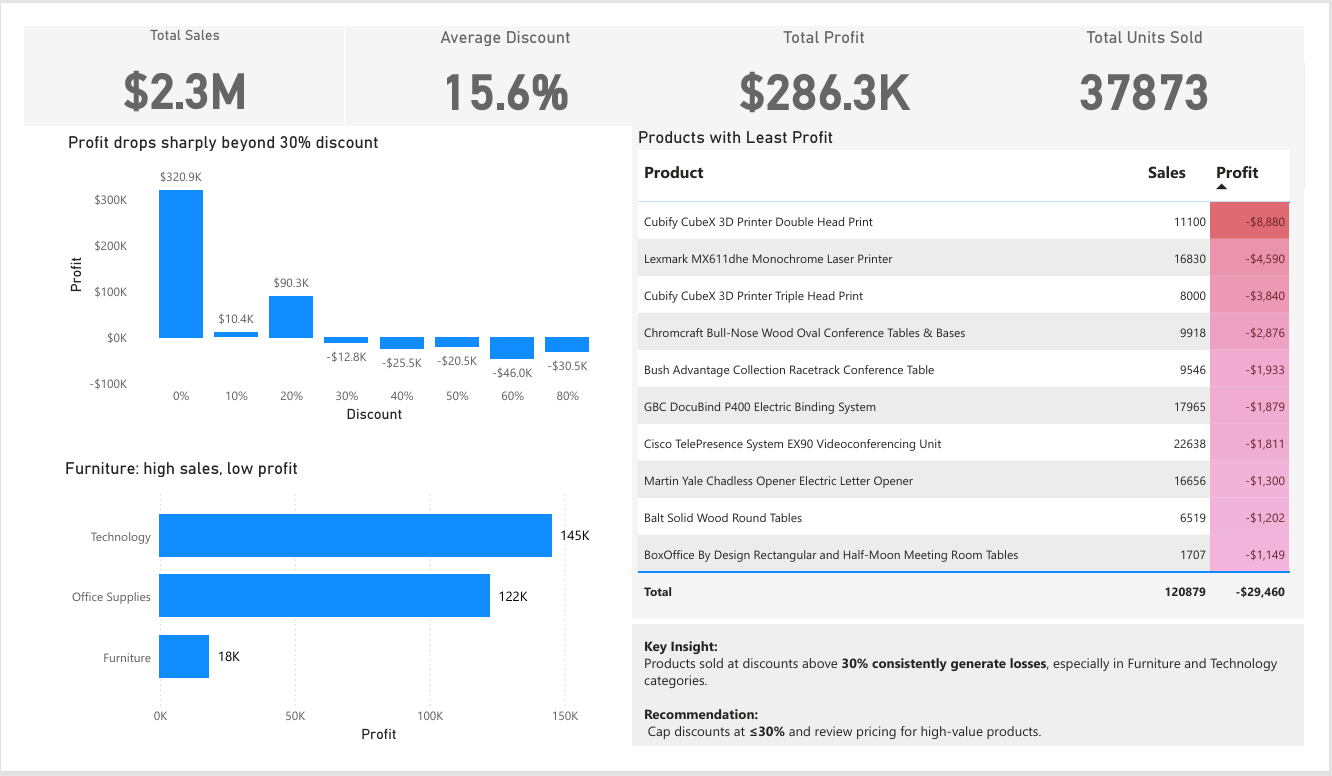

The dashboard page shown, as its layout file describes it:
{"tool":"powerbi","page":{"name":"Profit & Discount Analysis","canvas":[1280,720],"ordinal":0},"visuals":[{"type":"card","title":"Total Sales","fields":{"Values":["Sum(record_analysis records.sales)"]},"box":[0,0,320,100],"z":0,"group":"g1"},{"type":"clusteredColumnChart","title":"Profit drops sharply beyond 30% discount","fields":{"Category":["record_analysis records.discount (bins) 2"],"Y":["Sum(record_analysis records.profit)"]},"box":[37.6,104.8,554.3,295.5],"z":0},{"type":"card","title":"Total Profit","fields":{"Values":["Sum(record_analysis records.profit)"]},"box":[638.8,0,320.4,100],"z":1000,"group":"g1"},{"type":"barChart","title":"Furniture: high sales, low profit","fields":{"Category":["record_analysis records.category"],"Y":["Sum(record_analysis records.profit)"]},"box":[34.9,430.7,557,289.3],"z":1000},{"type":"card","title":"Total Units Sold","fields":{"Values":["Sum(record_analysis records.quantity)"]},"box":[959.2,0,320.4,100],"z":2000,"group":"g1"},{"type":"tableEx","title":"Products with Least Profit","fields":{"Values":["record_analysis records.product_name","Sum(record_analysis records.sales)","Sum(record_analysis records.profit)"]},"box":[607.9,100.2,672.1,493.1],"z":2000},{"type":"card","title":"Average Discount","fields":{"Values":["Avg(record_analysis records.discount)"]},"box":[320.9,0,319.2,100],"z":3000,"group":"g1"},{"type":"textbox","box":[607.9,598.2,672.1,121.6],"z":3000},{"type":"group","id":"g1","title":"Group 1","box":[0,0,1279.7,100.3],"z":4000}]}

Visuals, with their boxes on the page's 1280x720 design canvas (x1, y1, x2, y2). These are canvas units, not pixel positions in the 1332x776 screenshot, which may show the page scaled, cropped or inside an application window:
"Total Sales" card: (x1=0, y1=0, x2=320, y2=100)
"Profit drops sharply beyond 30% discount" clusteredColumnChart: (x1=38, y1=105, x2=592, y2=400)
"Total Profit" card: (x1=639, y1=0, x2=959, y2=100)
"Furniture: high sales, low profit" barChart: (x1=35, y1=431, x2=592, y2=720)
"Total Units Sold" card: (x1=959, y1=0, x2=1280, y2=100)
"Products with Least Profit" tableEx: (x1=608, y1=100, x2=1280, y2=593)
"Average Discount" card: (x1=321, y1=0, x2=640, y2=100)
textbox: (x1=608, y1=598, x2=1280, y2=720)
"Group 1" group: (x1=0, y1=0, x2=1280, y2=100)
